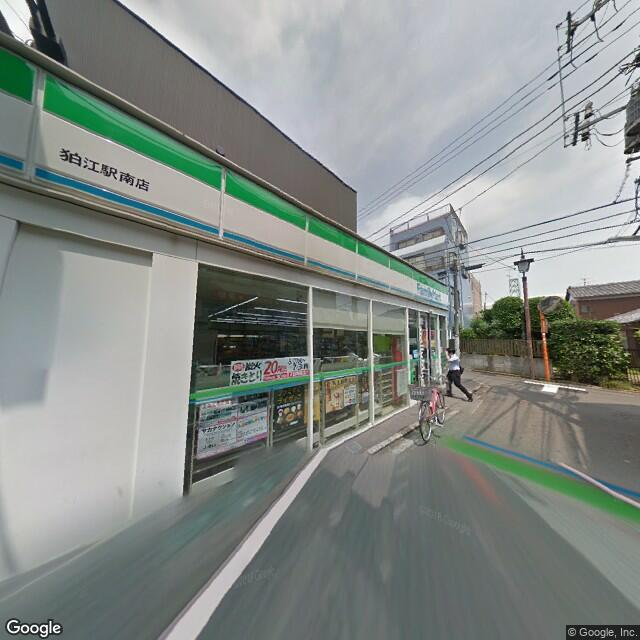family_mart: (2, 44, 452, 308)
